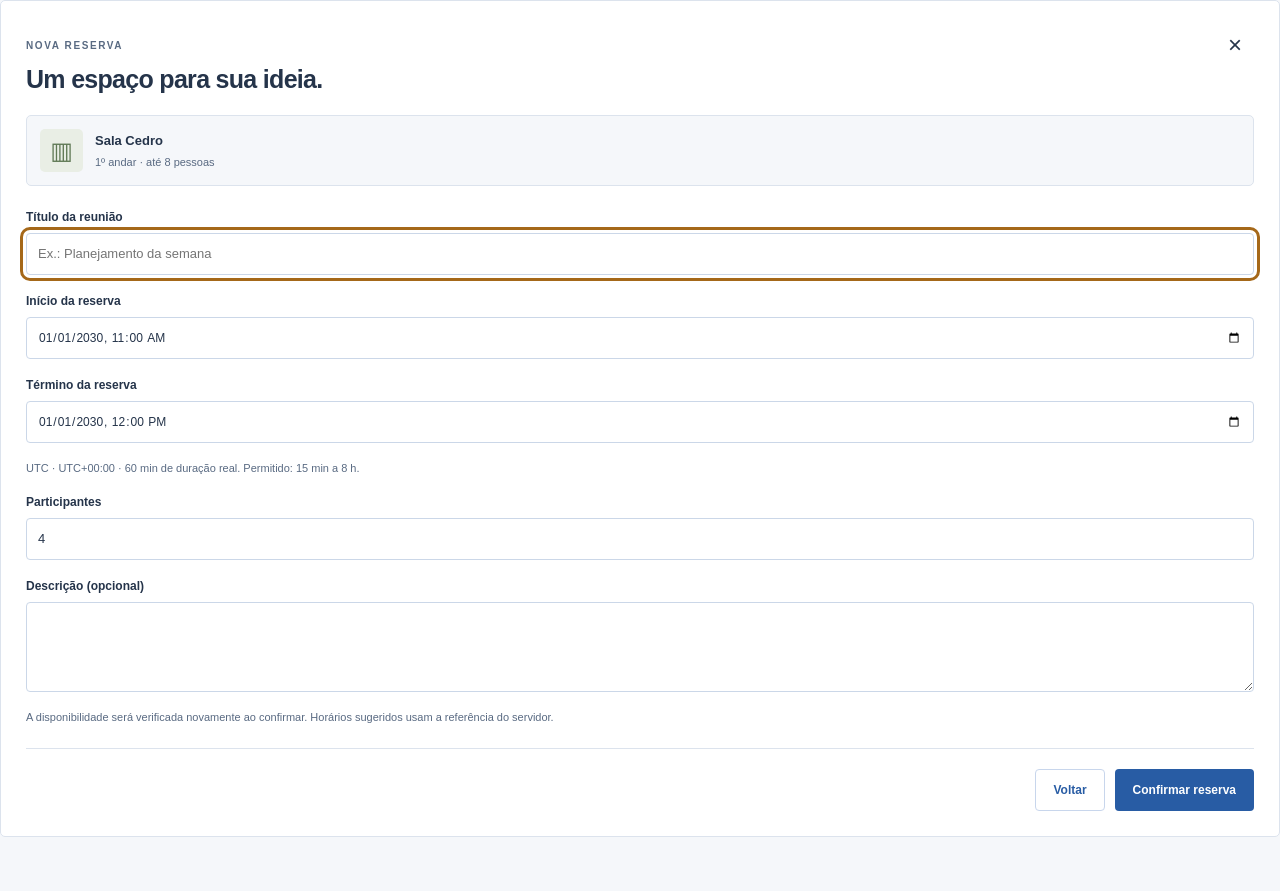
Test case: reservation form states › blocks double submission and disables re-send after a transport uncertainty
Step 1. Type "Planejamento" into the field labelled "Título da reunião" → x=640, y=254, box [26,233,1254,275]
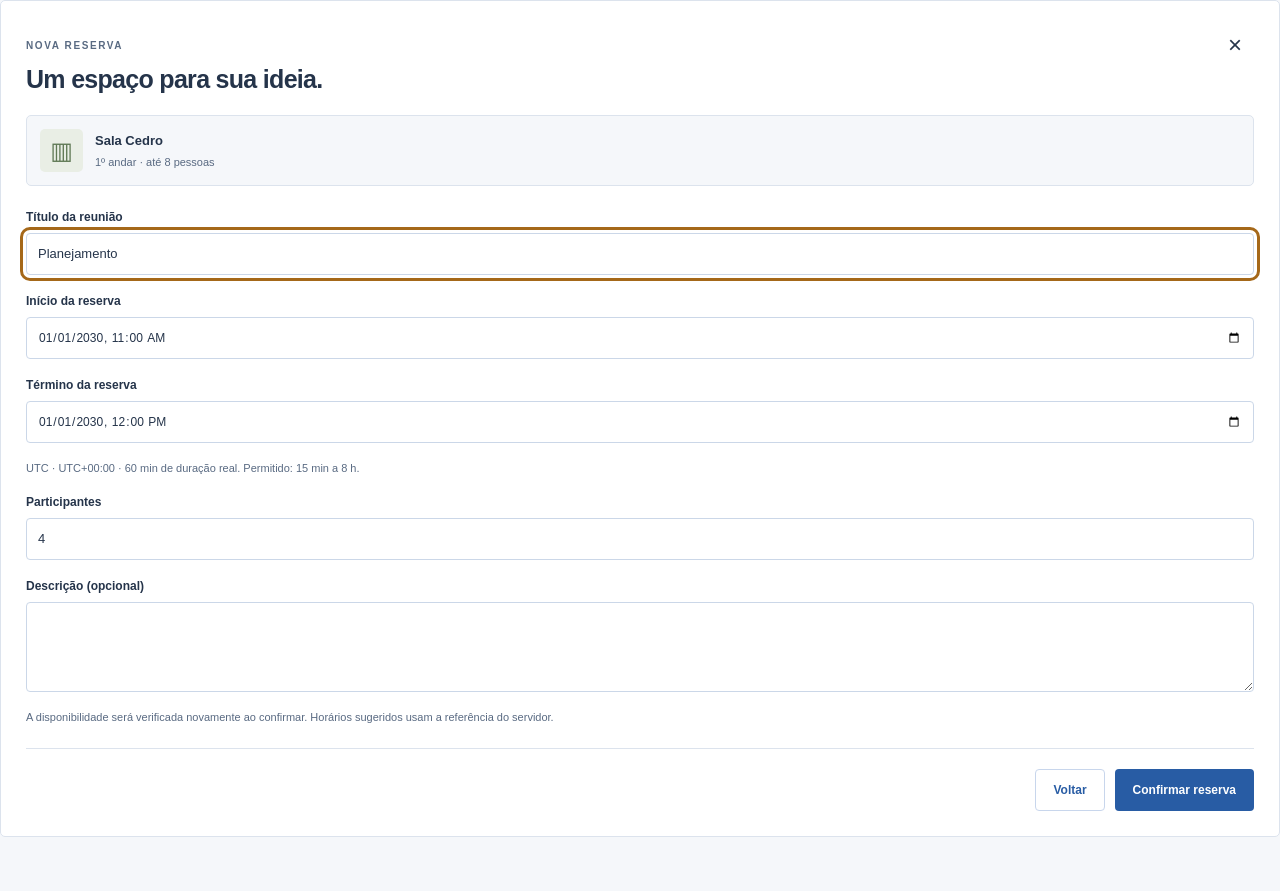
Step 2. Type "Pauta importante" into the text box labelled "Descrição (opcional)" → x=640, y=647, box [26,602,1254,692]
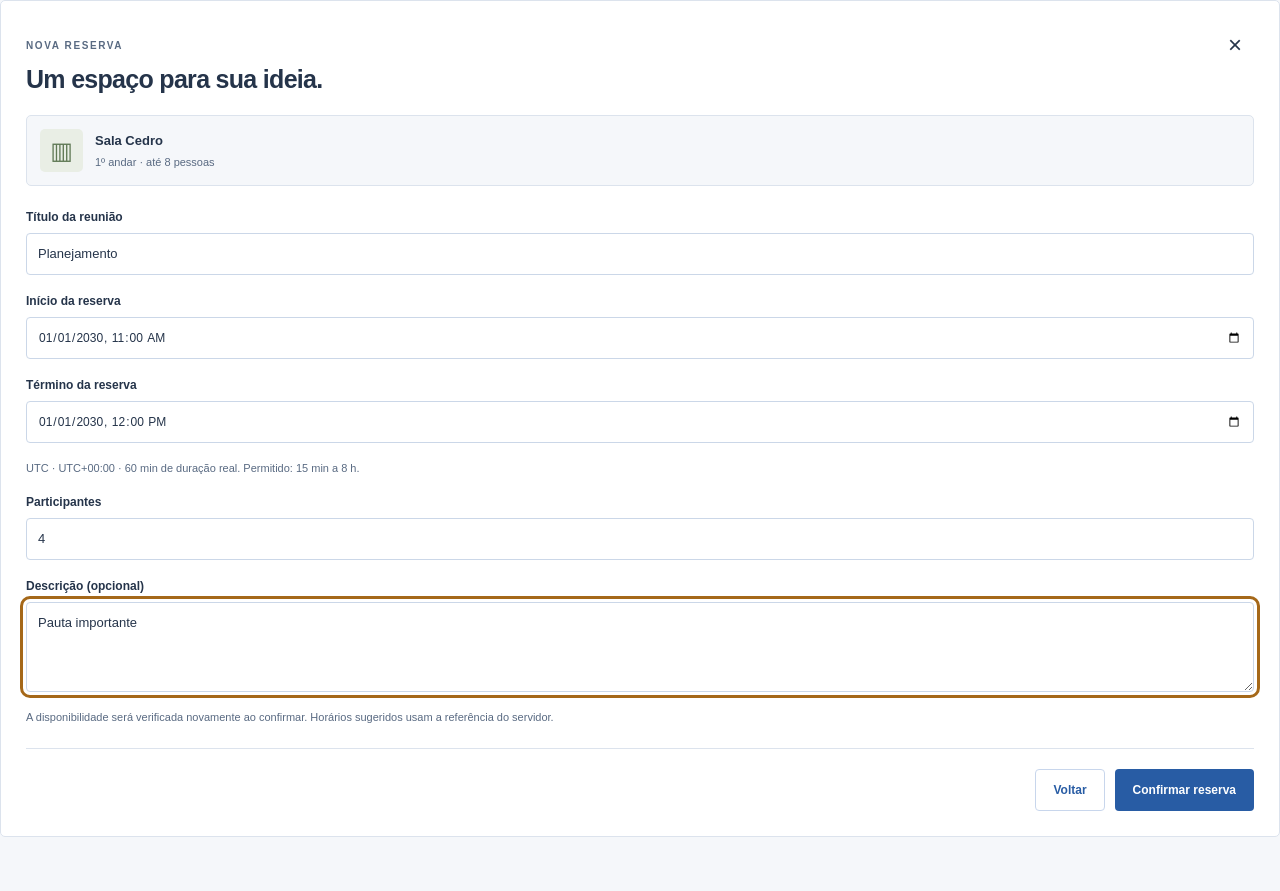
Step 3. Double-click the button "Confirmar reserva" → x=1184, y=790, box [1115,769,1254,811]
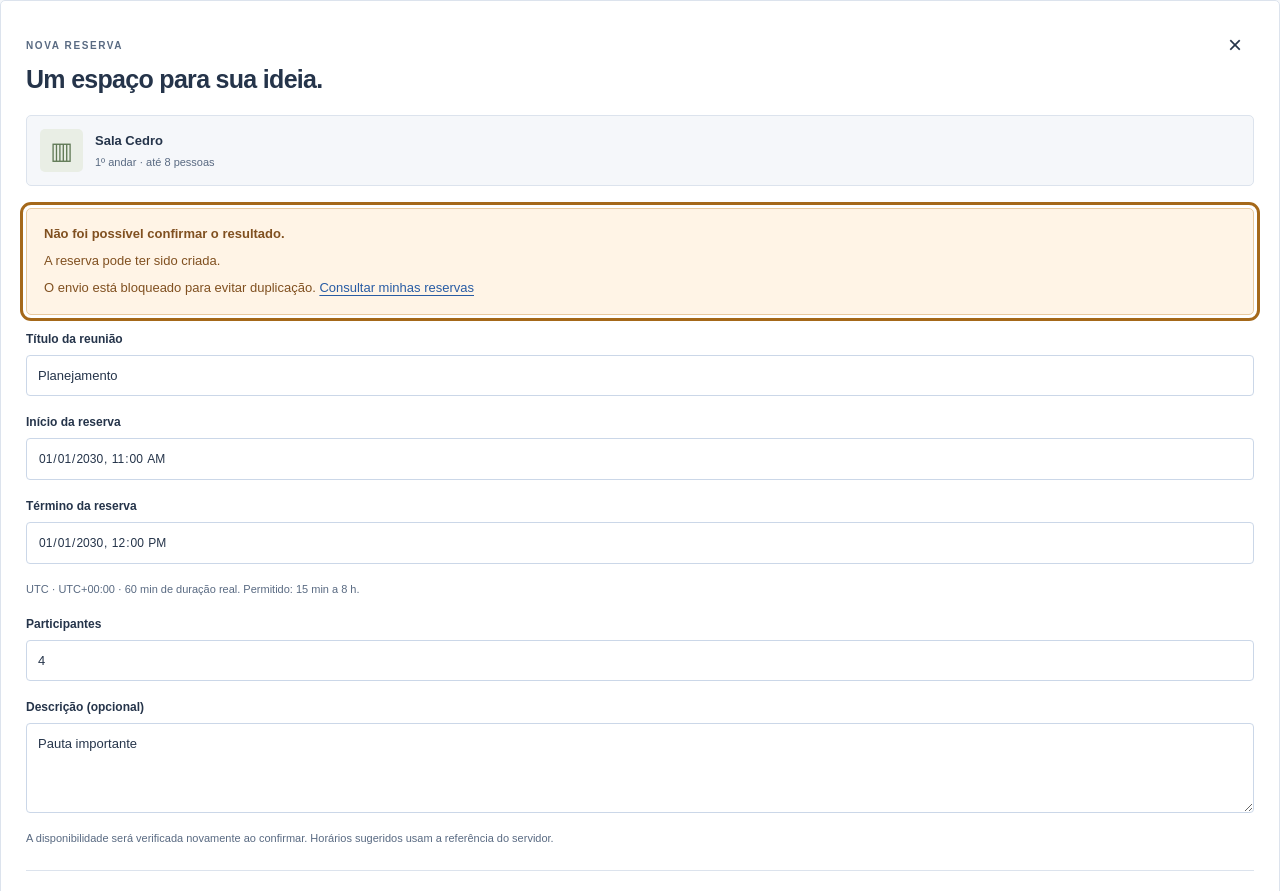
Now the text "Não foi possível confirmar o resultado." is shown, box [44,226,285,241]
